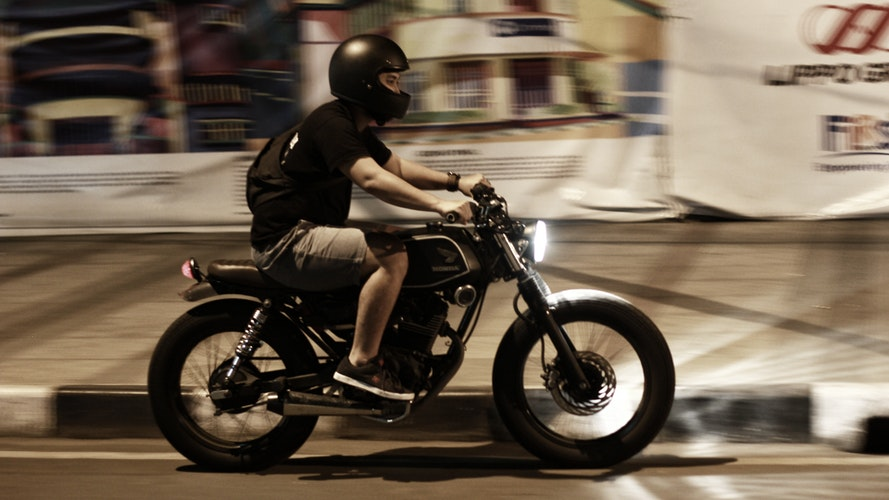helmet: (325, 34, 412, 116)
